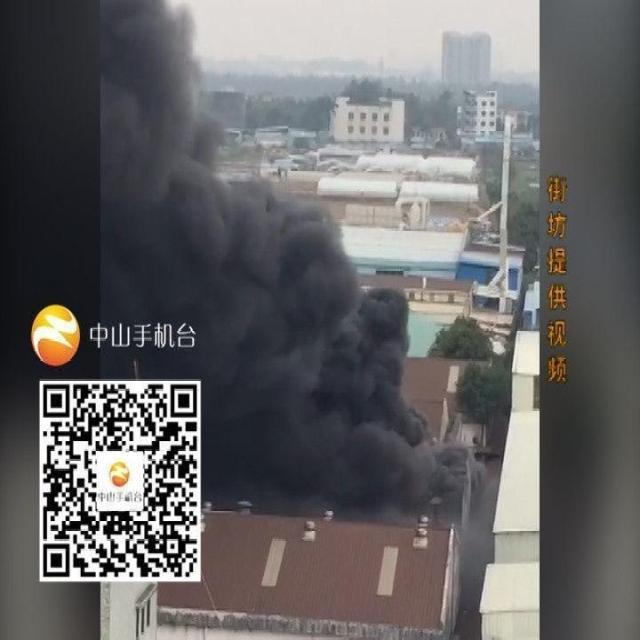Smoke: (102, 1, 502, 577)
